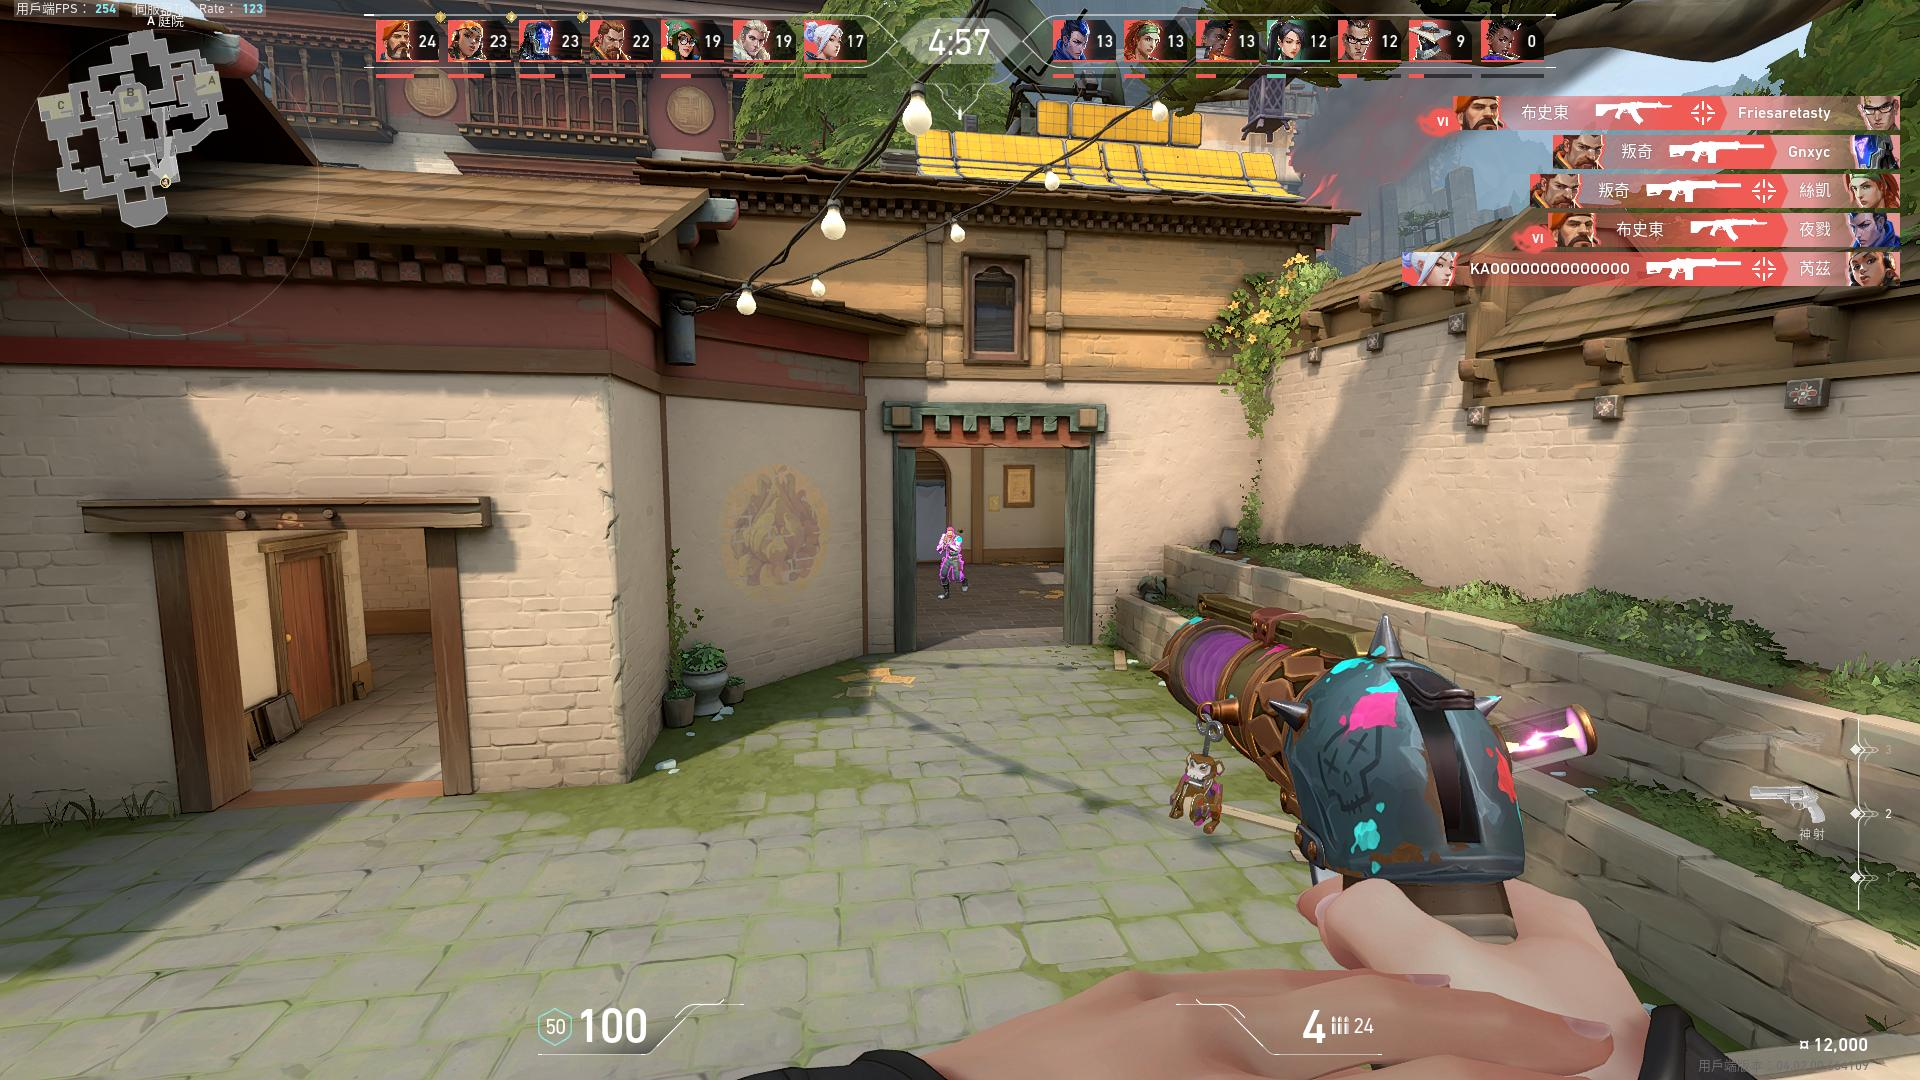enemyBody: (947, 539, 956, 560)
enemyHead: (948, 531, 952, 537)
